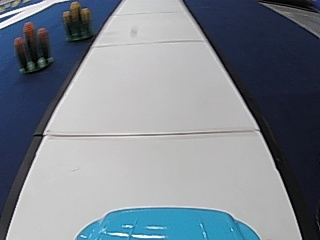corn: (15, 21, 54, 74), (62, 0, 92, 42)
